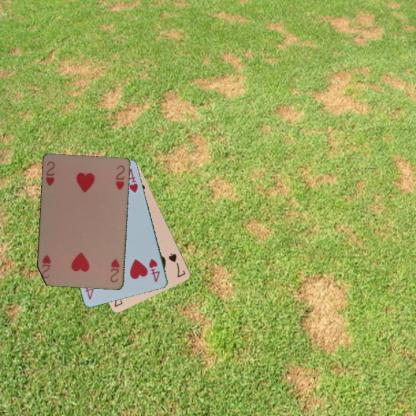2h: (107, 256, 121, 284), (43, 158, 56, 188)
4h: (146, 256, 161, 284)
7s: (166, 251, 186, 278)
